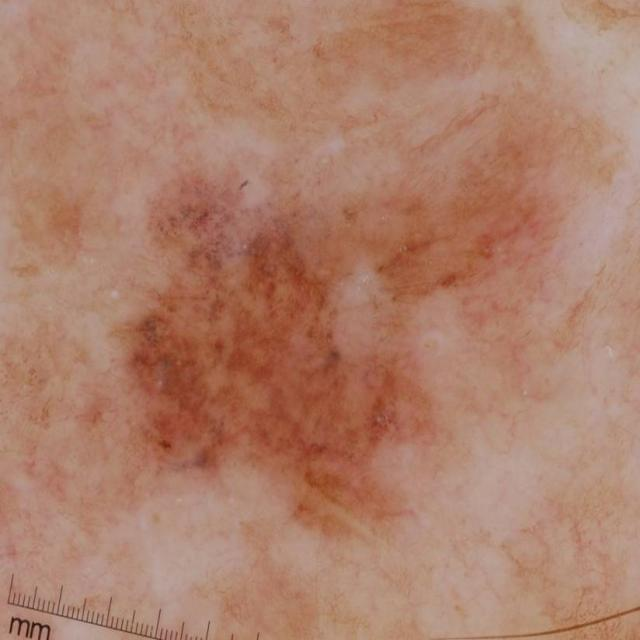Skin-Cancer Melanoma: (33, 46, 580, 632)
